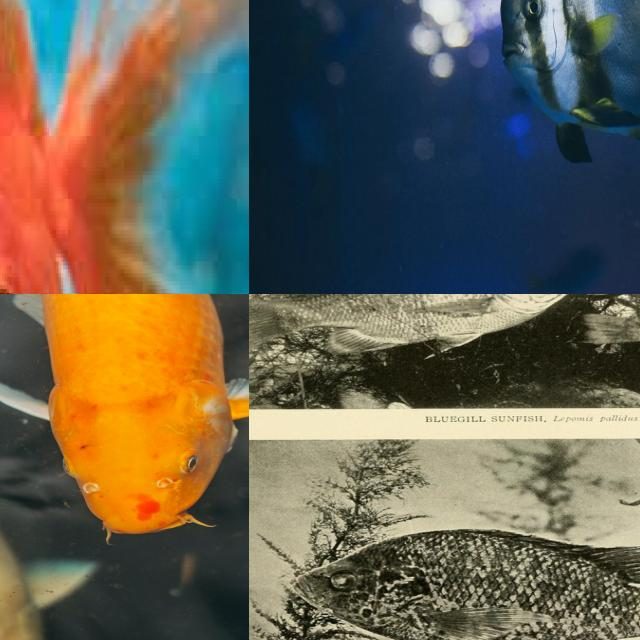fish: (249, 0, 640, 294), (0, 0, 249, 294), (37, 294, 249, 438)
